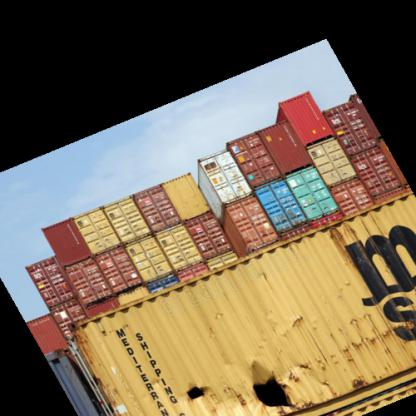Damage: (314, 314, 415, 368), (236, 359, 308, 415), (178, 380, 214, 406)
